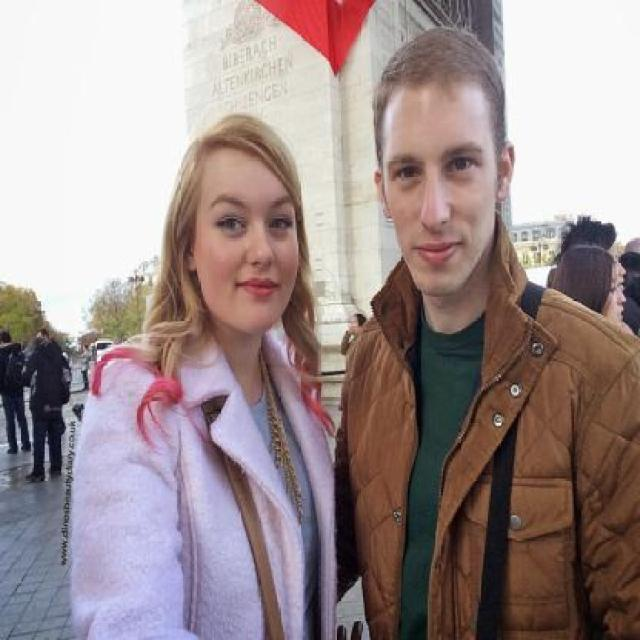sem_oculos: (364, 140, 515, 195), (185, 193, 302, 249)
